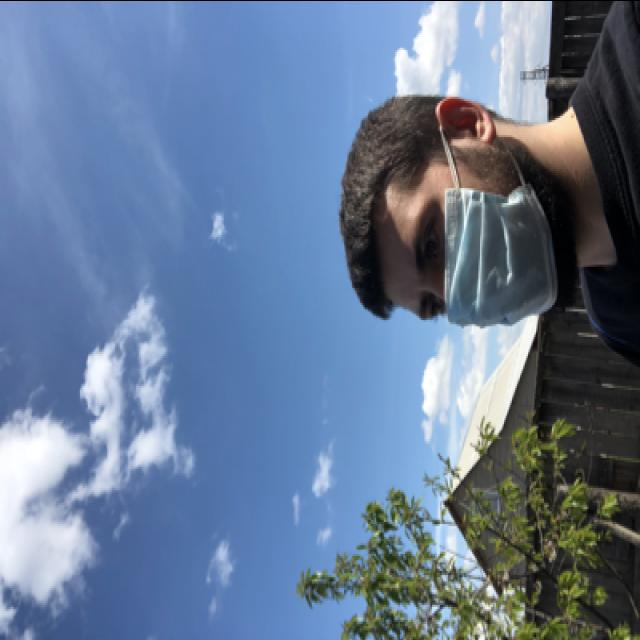mask: (398, 174, 578, 326)
